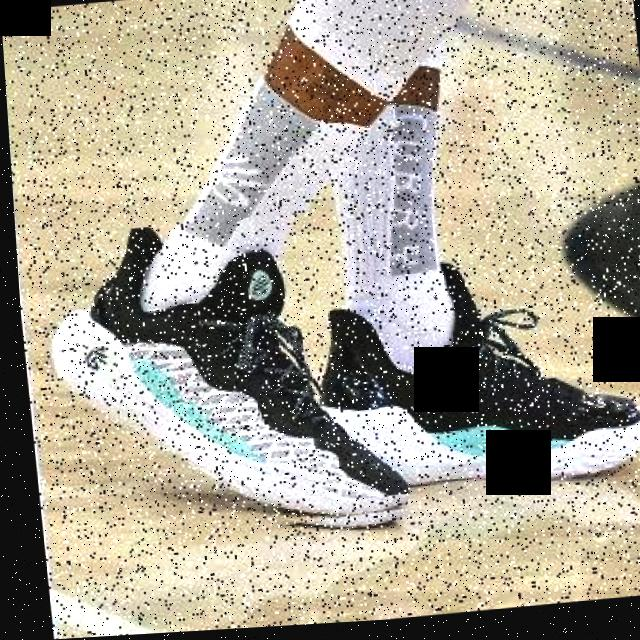shoe: (39, 209, 403, 555), (290, 253, 640, 507)
